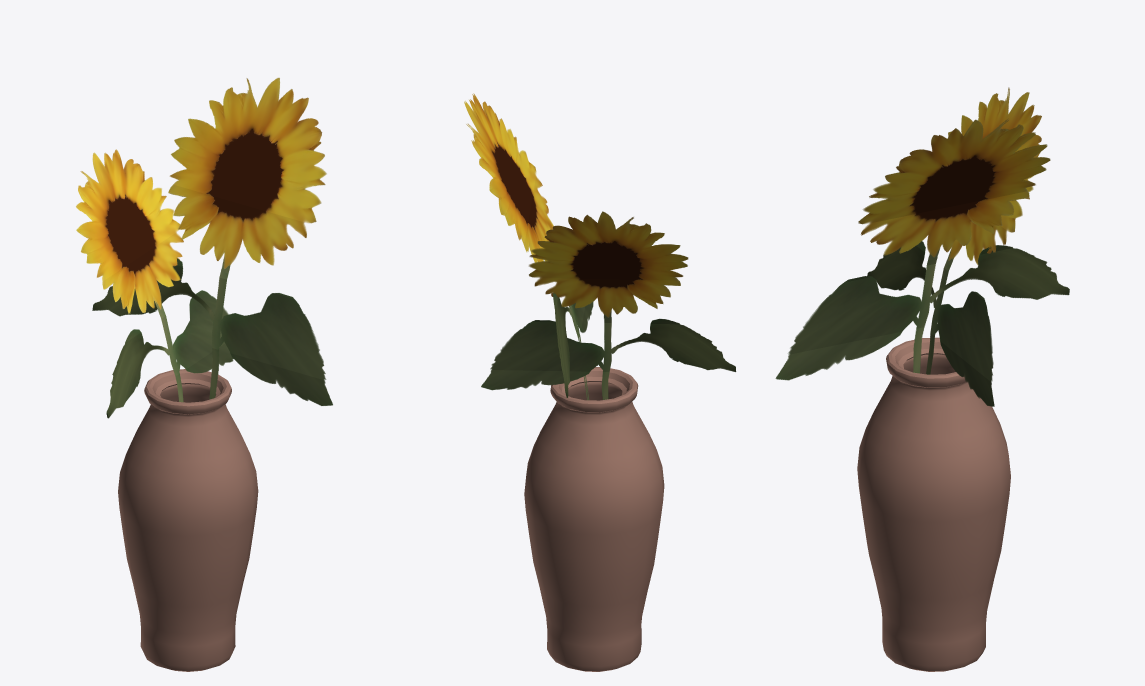
Rendered from SunflowersVase.glb.
3 views of the same model, side by side, from view 1: azimuth 30°, elevation 25°; view 2: azimuth 150°, elevation 25°; view 3: azimuth 270°, elevation 25° (orthographic). The views are drawn at different scales.
Visible parts, largest first — view 1: SunflowersVase; view 2: SunflowersVase; view 3: SunflowersVase.
Part boxes in pixels (x1,y1,x2,y2): SunflowersVase: [76, 77, 332, 671]; SunflowersVase: [464, 93, 736, 671]; SunflowersVase: [775, 87, 1069, 671].
Bounding box in the file's own units: 0.2738 × 0.445 × 0.2358.
Materials: 2 (1 with a texture image).
